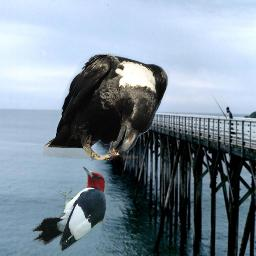Crow: (43, 51, 170, 163)
Woodpecker: (31, 166, 106, 251)
